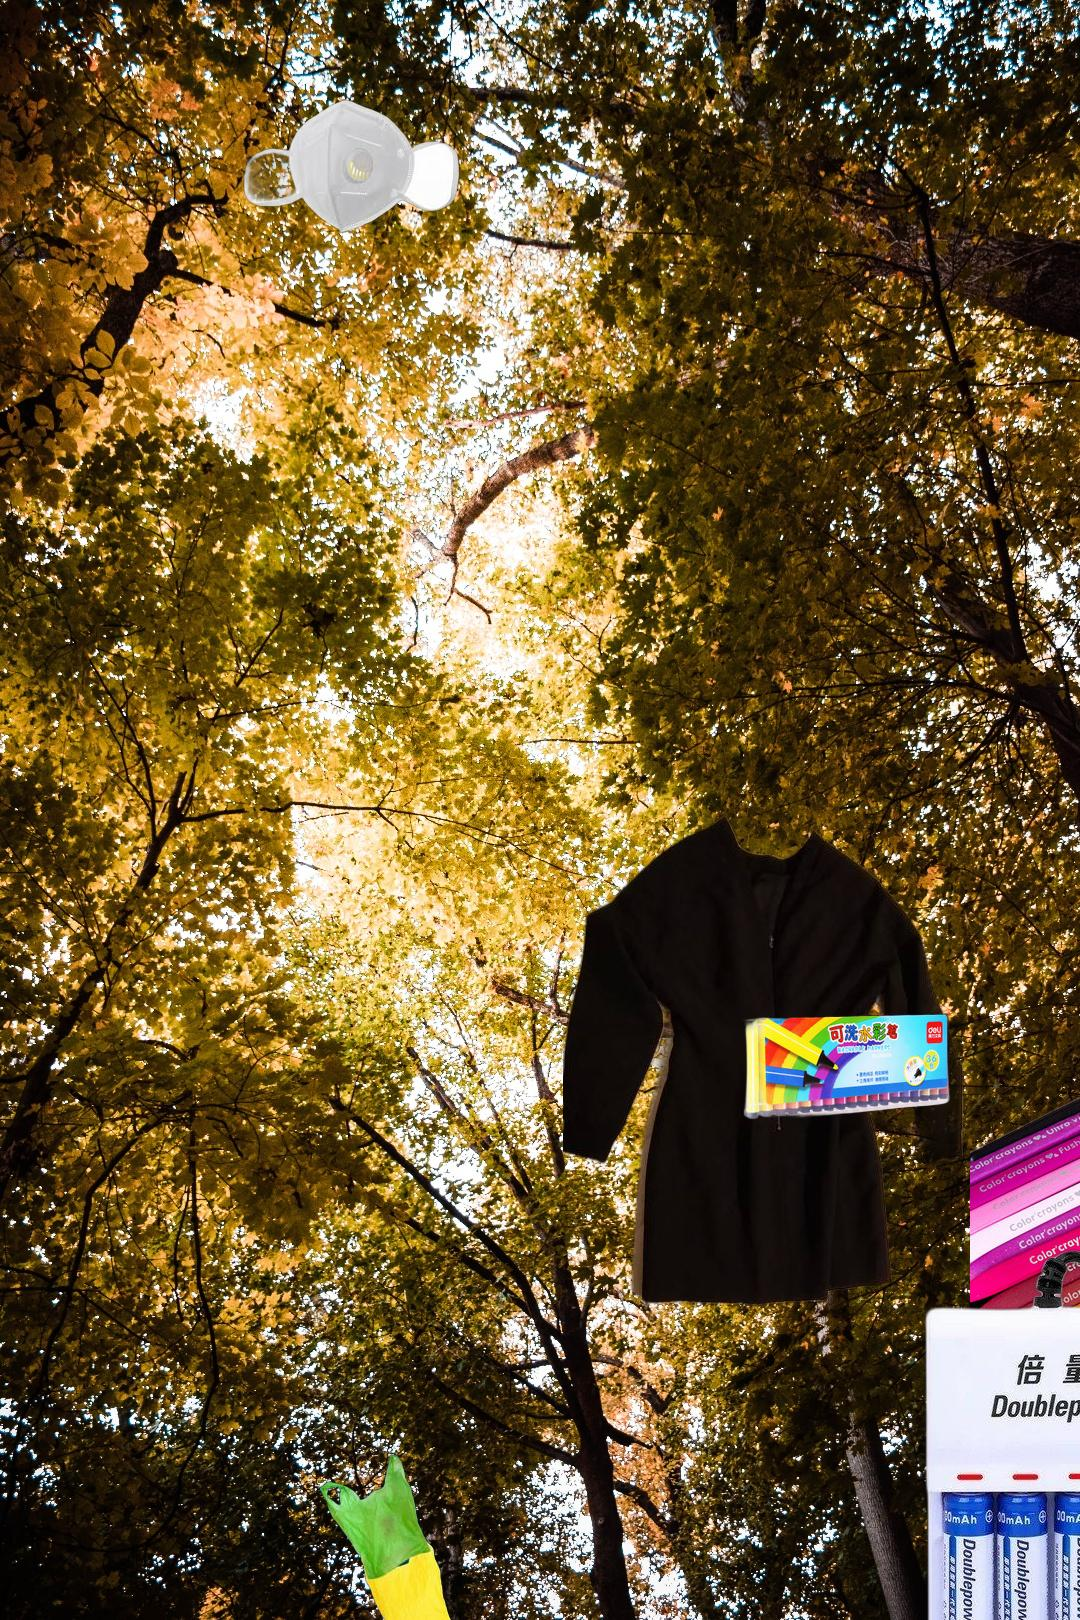battery: (920, 1245, 1080, 1620)
clothes: (563, 805, 963, 1309)
penholder: (970, 891, 1080, 1575), (738, 985, 953, 1125)
plastic-bag: (318, 1452, 456, 1620)
trash: (241, 96, 462, 235)
